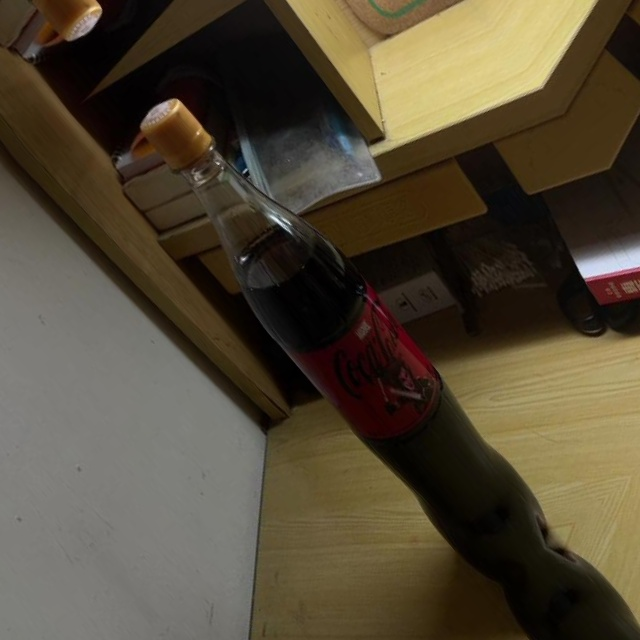Coca-Cola: (109, 73, 571, 595)
